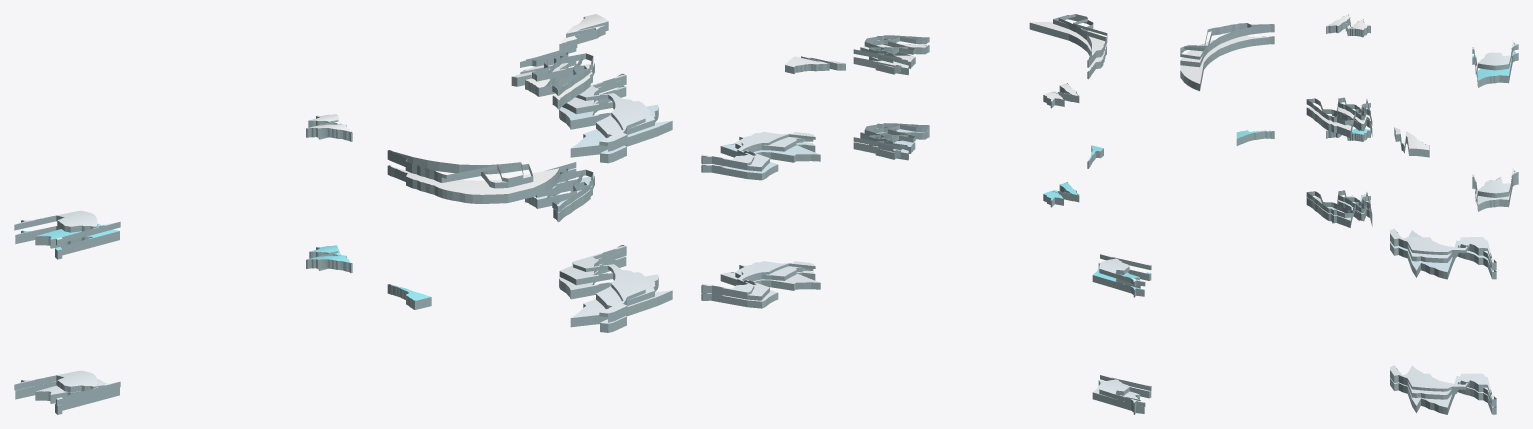
Rendered from yuna_semantic_layer_v9_hair_art_directed_v1_silhouette.obj.
3 renders of one model, left to right at view 1: azimuth 30°, elevation 25°; view 2: azimuth 150°, elevation 25°; view 3: azimuth 270°, elevation 25°, orthographic. The views are drawn at different scales.
Parts seen in each view (by area): view 1: bangs_primary_01, side_hair_right_primary_01, back_hair_mass_01, secondary_strands_01, flyaway_strands_01, side_hair_left_primary_01, secondary_strands_02, flyaway_strands_02, secondary_strands_05, secondary_strands_04, secondary_strands_03, back_hair_mass_02 (+11 smaller); view 2: side_hair_right_primary_01, back_hair_mass_01, bangs_primary_01, secondary_strands_02, secondary_strands_01, flyaway_strands_02, flyaway_strands_01, secondary_strands_08, secondary_strands_09, side_hair_left_primary_01, secondary_strands_04, secondary_strands_05 (+8 smaller); view 3: bangs_primary_01, side_hair_right_primary_01, back_hair_mass_01, flyaway_strands_01, flyaway_strands_02, secondary_strands_01, secondary_strands_02, secondary_strands_03, bangs_primary_03, side_hair_left_primary_01, flyaway_strands_03, secondary_strands_09 (+8 smaller).
Boxes of the visible parts, bbox=[...] form: bangs_primary_01: bbox=[387, 165, 559, 203]; side_hair_right_primary_01: bbox=[559, 86, 672, 163]; back_hair_mass_01: bbox=[559, 256, 672, 332]; secondary_strands_01: bbox=[559, 250, 654, 322]; flyaway_strands_01: bbox=[572, 245, 645, 317]; side_hair_left_primary_01: bbox=[15, 223, 119, 259]; secondary_strands_02: bbox=[562, 78, 654, 151]; flyaway_strands_02: bbox=[575, 73, 645, 145]; secondary_strands_05: bbox=[14, 210, 120, 245]; secondary_strands_04: bbox=[14, 370, 120, 405]; secondary_strands_03: bbox=[387, 154, 533, 188]; back_hair_mass_02: bbox=[15, 379, 119, 414]; side_hair_right_primary_01: bbox=[701, 136, 820, 180]; back_hair_mass_01: bbox=[701, 265, 820, 308]; bangs_primary_01: bbox=[1029, 22, 1106, 79]; secondary_strands_02: bbox=[701, 133, 813, 171]; secondary_strands_01: bbox=[701, 262, 813, 300]; flyaway_strands_02: bbox=[701, 132, 815, 165]; flyaway_strands_01: bbox=[701, 261, 815, 295]; secondary_strands_08: bbox=[853, 123, 929, 150]; secondary_strands_09: bbox=[853, 35, 929, 62]; side_hair_left_primary_01: bbox=[1092, 262, 1151, 297]; secondary_strands_04: bbox=[1099, 375, 1151, 407]; secondary_strands_05: bbox=[1099, 254, 1151, 286]; bangs_primary_01: bbox=[1180, 35, 1274, 91]; side_hair_right_primary_01: bbox=[1390, 230, 1496, 279]; back_hair_mass_01: bbox=[1390, 366, 1496, 414]; flyaway_strands_01: bbox=[1390, 365, 1496, 402]; flyaway_strands_02: bbox=[1390, 228, 1496, 265]; secondary_strands_01: bbox=[1390, 373, 1496, 406]; secondary_strands_02: bbox=[1390, 236, 1496, 270]; secondary_strands_03: bbox=[1180, 26, 1274, 67]; bangs_primary_03: bbox=[1306, 107, 1372, 137]; side_hair_left_primary_01: bbox=[1472, 51, 1518, 87]; flyaway_strands_03: bbox=[1180, 23, 1274, 59]; secondary_strands_09: bbox=[1306, 98, 1372, 125].
Size of the model in its own units: 3.04 by 1.49 by 1.85.
